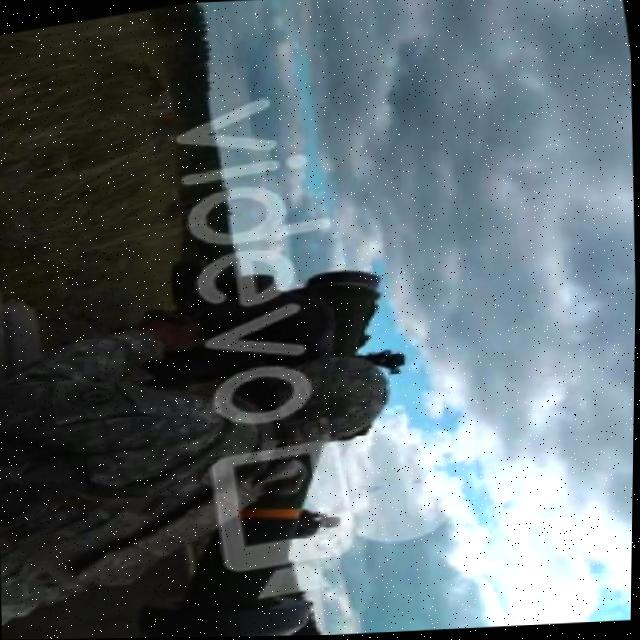rocket: (95, 266, 436, 639)
